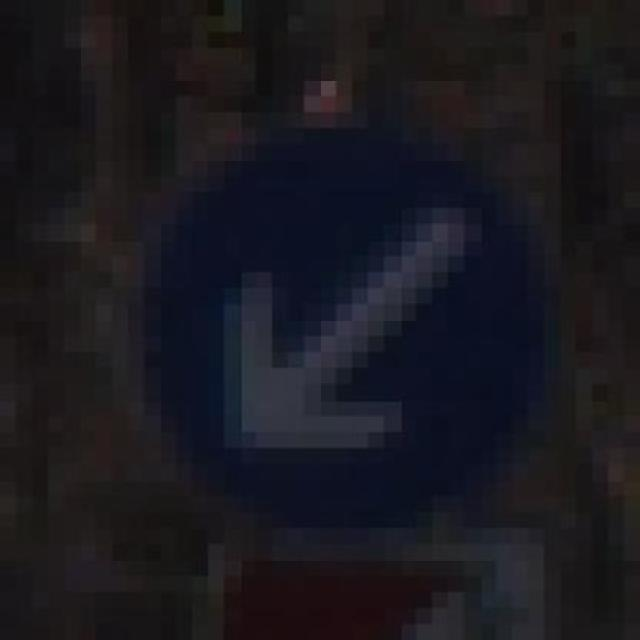Keep-Left: (95, 96, 592, 529)
